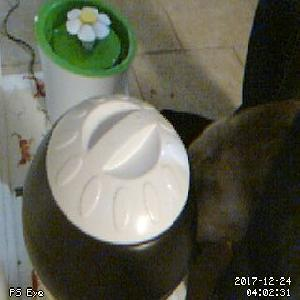cat: (183, 97, 300, 281)
fountain: (34, 1, 135, 78)
